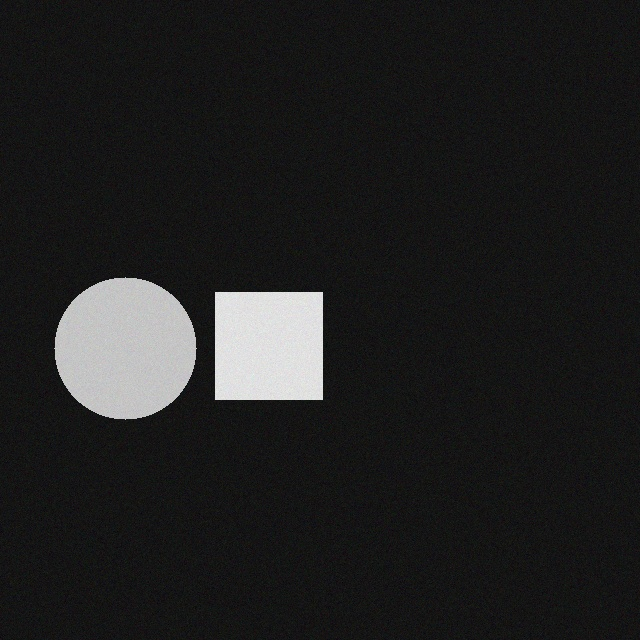circle: (44, 283, 186, 425)
square: (205, 298, 312, 405)
